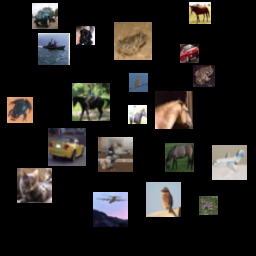airplane: (190, 51, 222, 83), (210, 128, 239, 157)
automobile: (191, 170, 220, 199), (127, 3, 153, 29), (162, 88, 181, 107)
bird: (3, 55, 19, 71)
cat: (77, 7, 106, 36), (82, 54, 104, 76), (125, 125, 141, 141)
deer: (48, 110, 77, 139), (15, 91, 41, 117), (142, 201, 168, 227)
dog: (59, 212, 91, 244), (128, 42, 160, 74)
frog: (170, 114, 205, 149), (82, 159, 114, 191)
ship: (32, 28, 70, 66), (83, 109, 102, 128)
